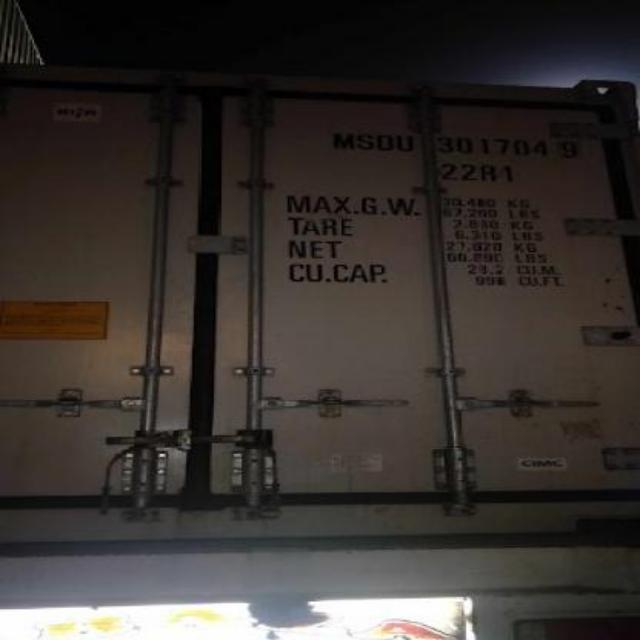0: (455, 134, 473, 158), (514, 136, 530, 158)
1: (474, 134, 492, 158)
3: (436, 134, 452, 156)
4: (532, 136, 550, 158)
7: (491, 132, 511, 156)
9: (558, 138, 582, 158)
D: (374, 130, 394, 154)
M: (331, 130, 354, 152)
S: (355, 130, 375, 152)
U: (392, 132, 416, 152)
